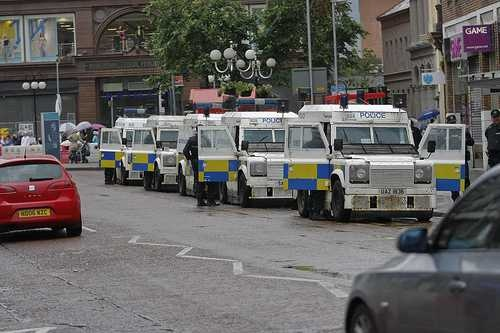Police Van: (292, 99, 465, 218), (218, 103, 310, 202), (173, 102, 253, 193), (101, 106, 164, 181), (145, 109, 183, 190)
